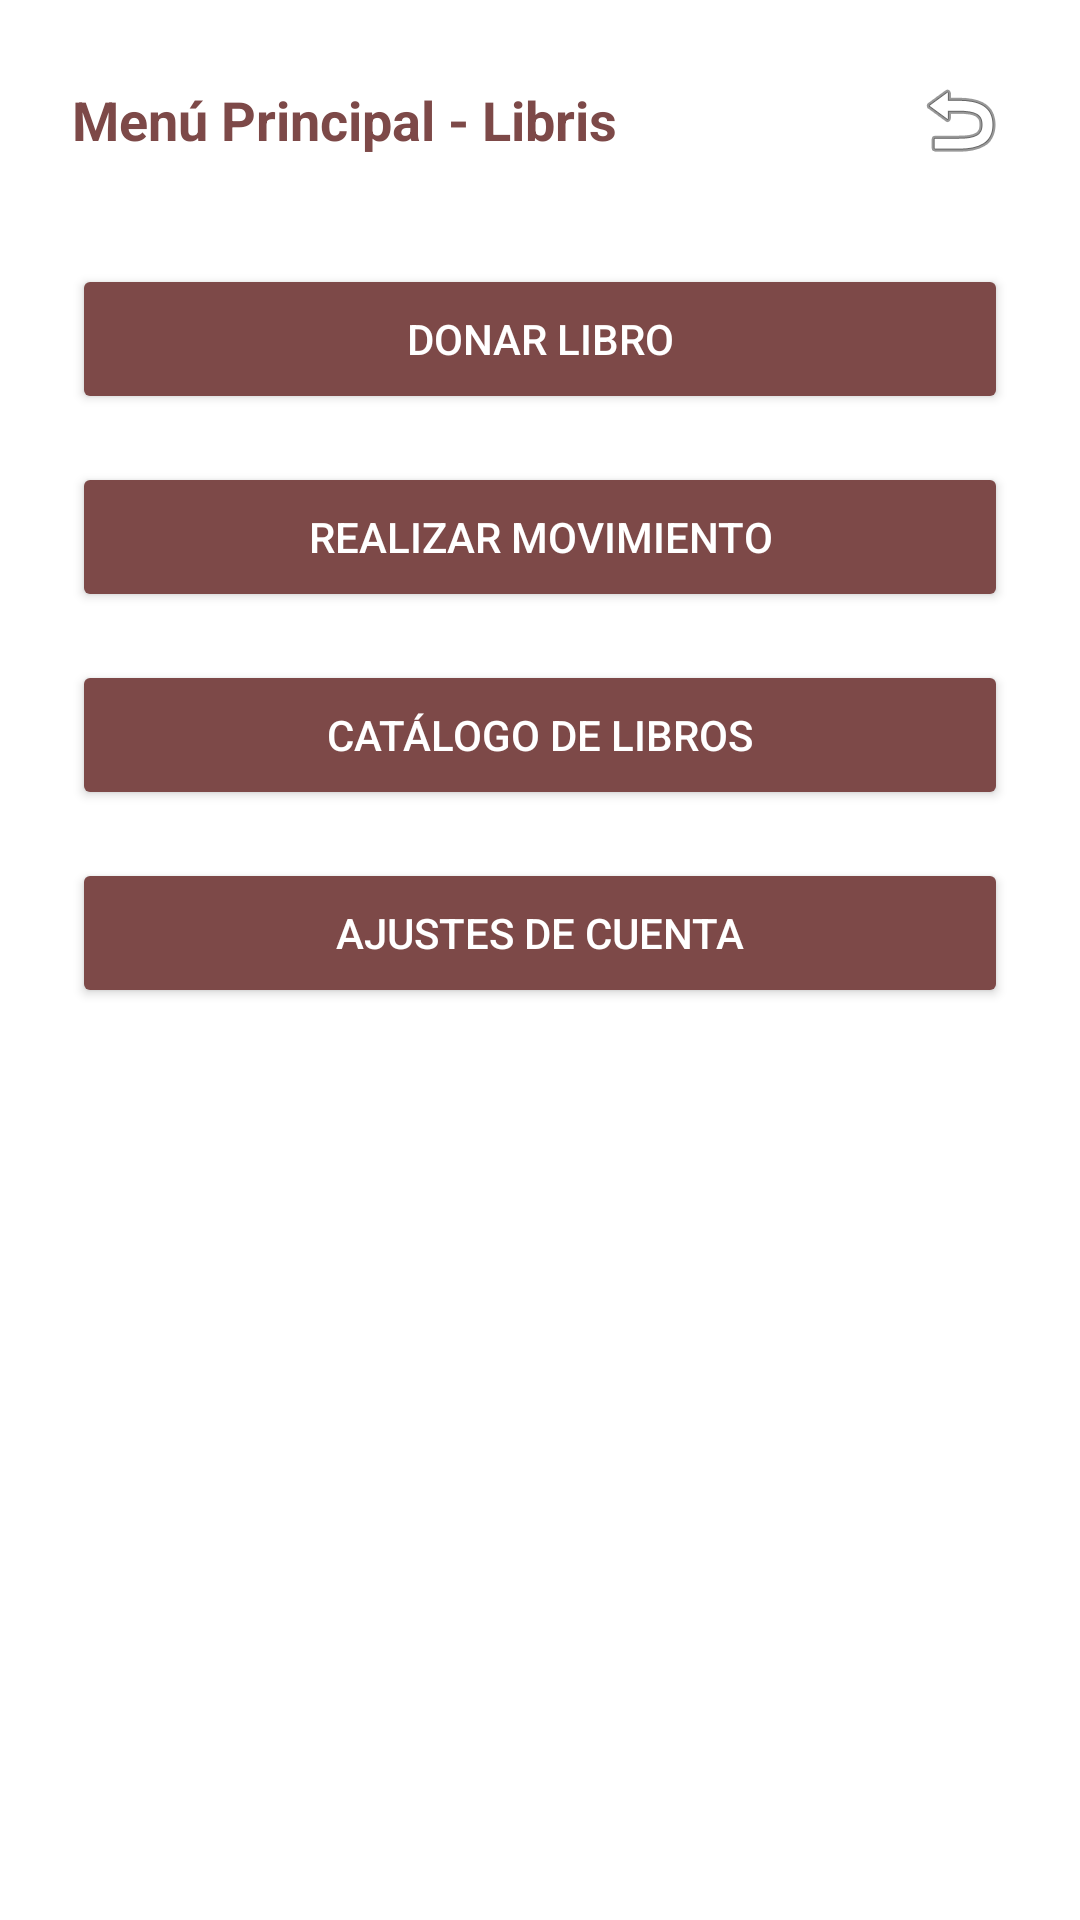

Where to tap for icons on this 1080 x 1920 app screen, as [x,y]:
Salir: [961,120]
